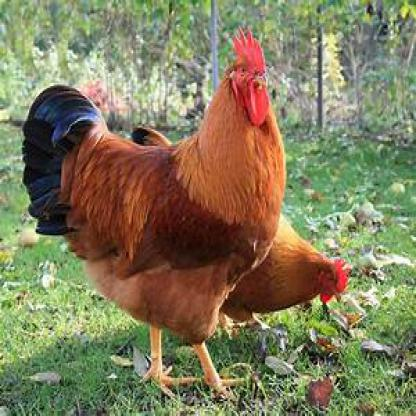chicken: (24, 28, 266, 400), (236, 224, 345, 333)
